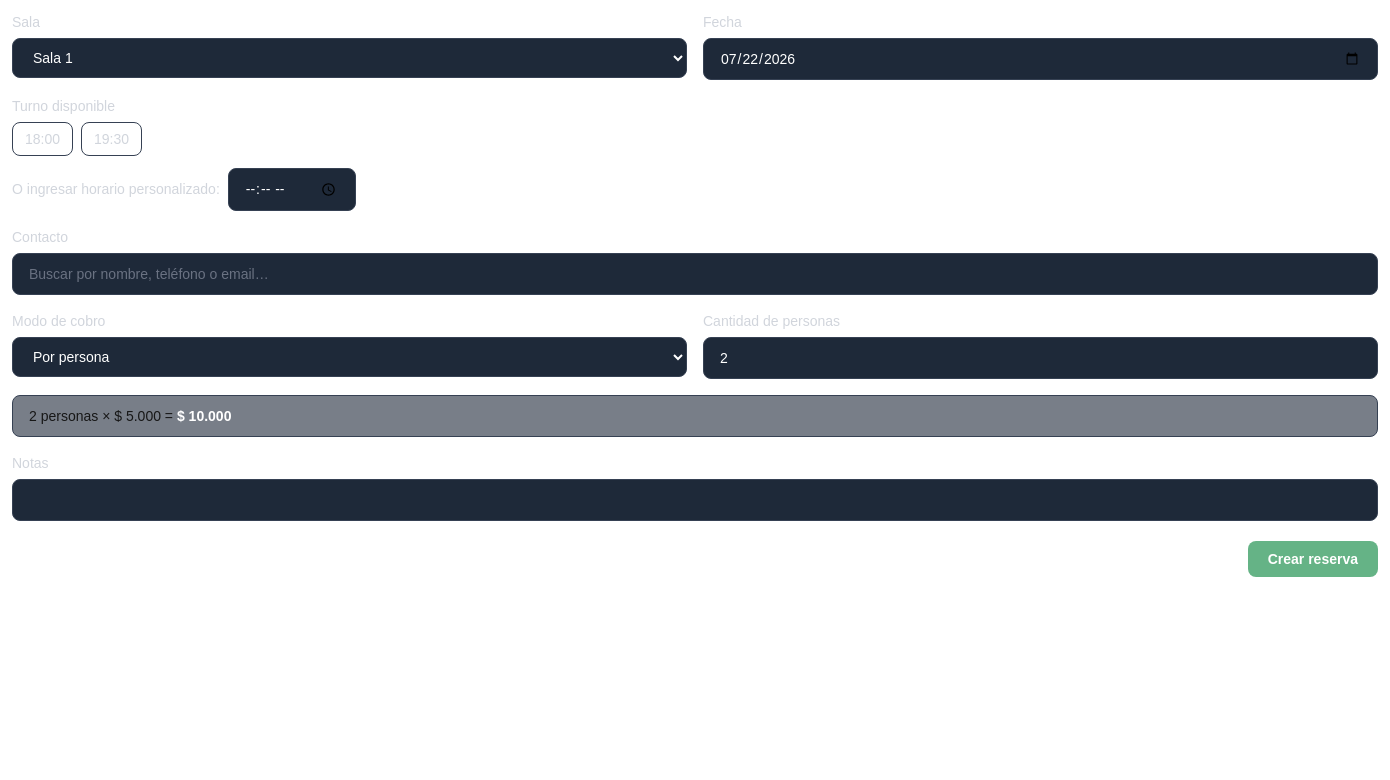
it: ReservaForm — desglose de precio (FIX 5) › shows the flat room price for modo sala_completa
This screenshot has width=1390, height=780.
Select "Sala completa" in the dropdown labelled "Modo de cobro" at x=350, y=357, box [12,337,687,377]
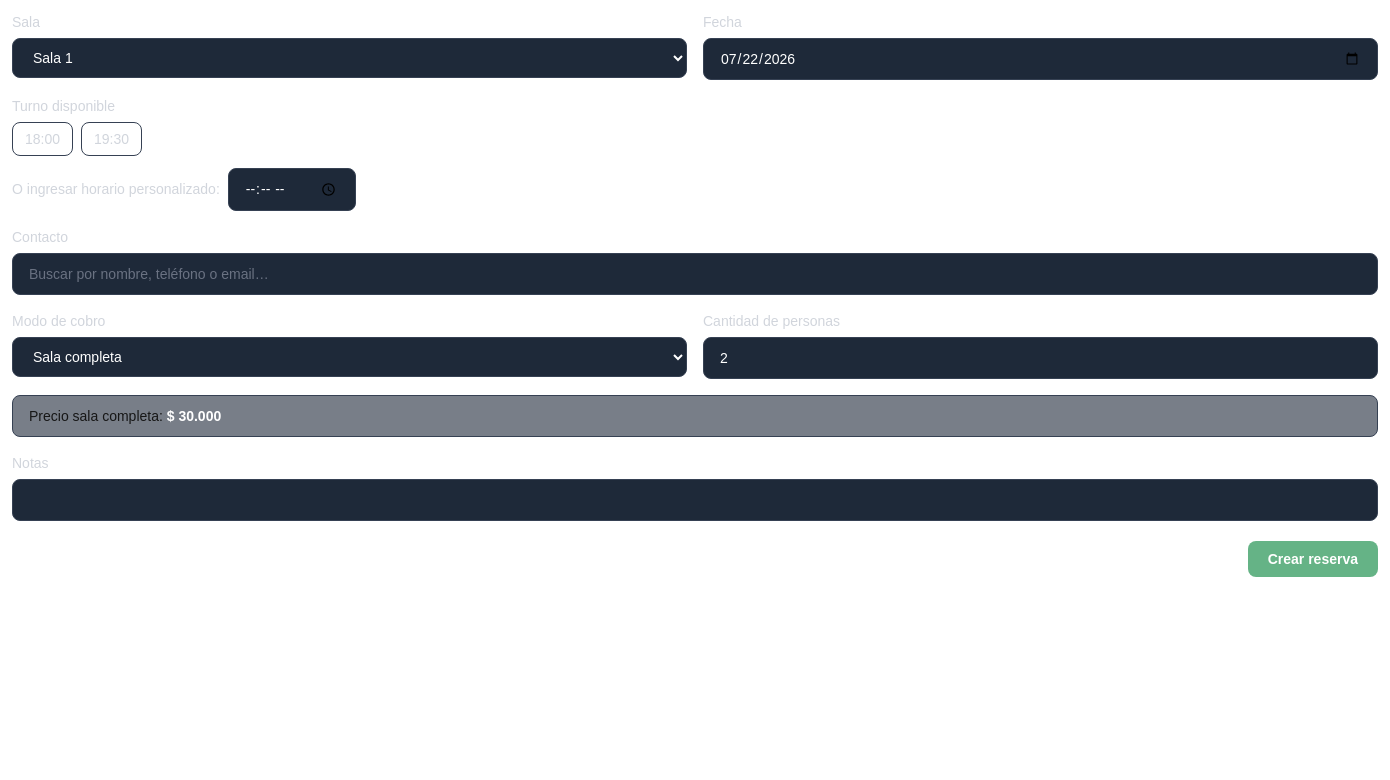
expect the text "Precio sala completa: $ 30.000" is shown: met, box [12,395,1378,437]
expect the text "$ 30.000" is shown: met, box [167,408,221,424]
